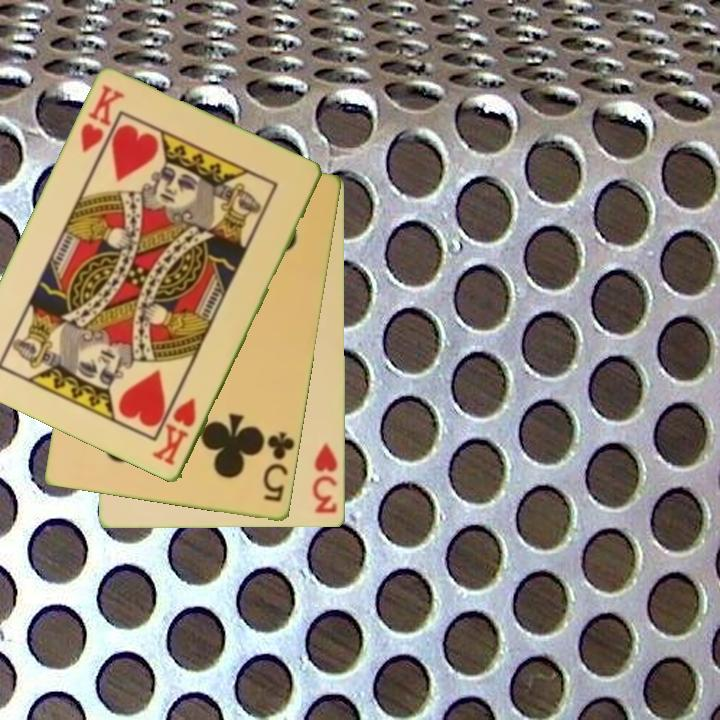3h: (310, 439, 341, 516)
5c: (260, 428, 297, 505)
Kh: (76, 82, 128, 156), (149, 395, 199, 469)
